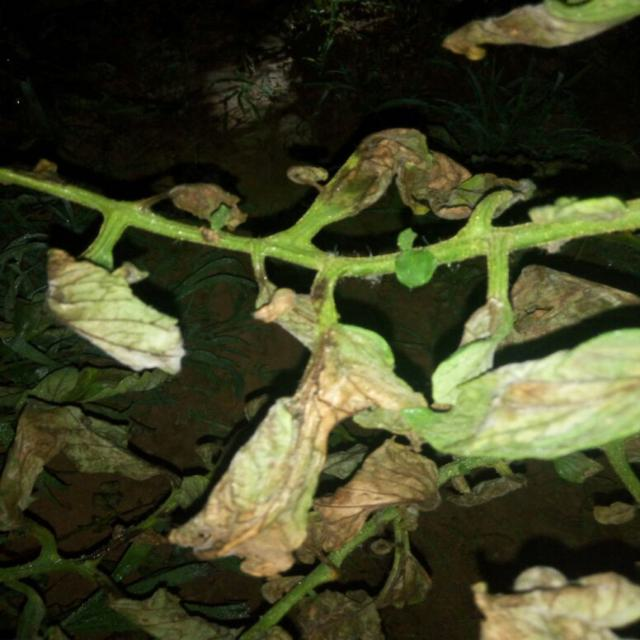Late_blight: (170, 280, 440, 576), (280, 123, 535, 220), (3, 397, 169, 521), (43, 246, 185, 374), (450, 262, 640, 345), (472, 368, 640, 447), (468, 565, 640, 640), (438, 2, 618, 62), (247, 579, 382, 640), (168, 179, 248, 232), (439, 467, 528, 510)
